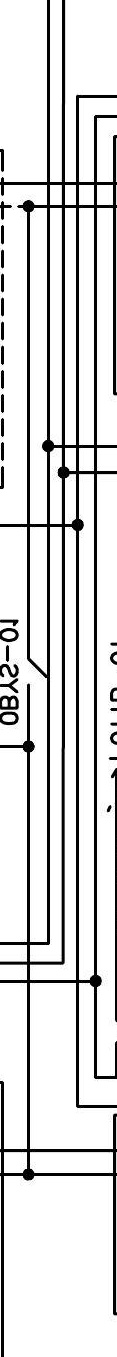115_ds: (26, 658, 47, 688)
